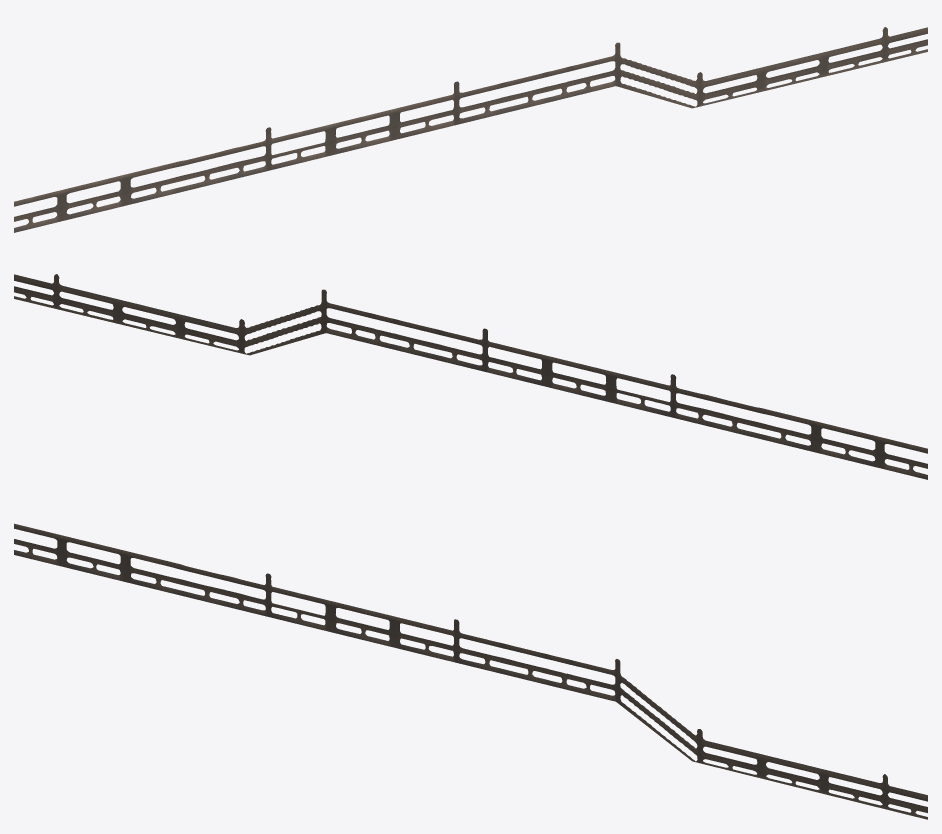
File: HuBian_Nightweilan_fbx.FBX
3 views of the same model, one above another, from view 1: azimuth 30°, elevation 25°; view 2: azimuth 150°, elevation 25°; view 3: azimuth 330°, elevation 25° (orthographic).
Parts seen in each view (by area): view 1: Object062; view 2: Object062; view 3: Object062.
Part boxes in pixels (bbox=[...]): Object062: bbox=[14, 27, 927, 232]; Object062: bbox=[14, 274, 927, 479]; Object062: bbox=[14, 523, 927, 819].
Size of the model in its own units: 17.59 by 1.63 by 4.34e-07.
Materials: 1 (1 with a texture image).
